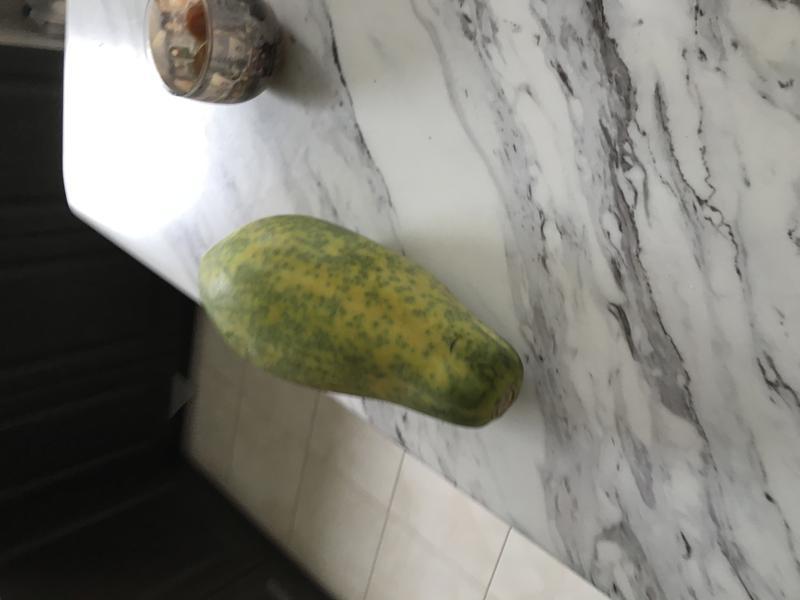papaya: (192, 211, 534, 437)
